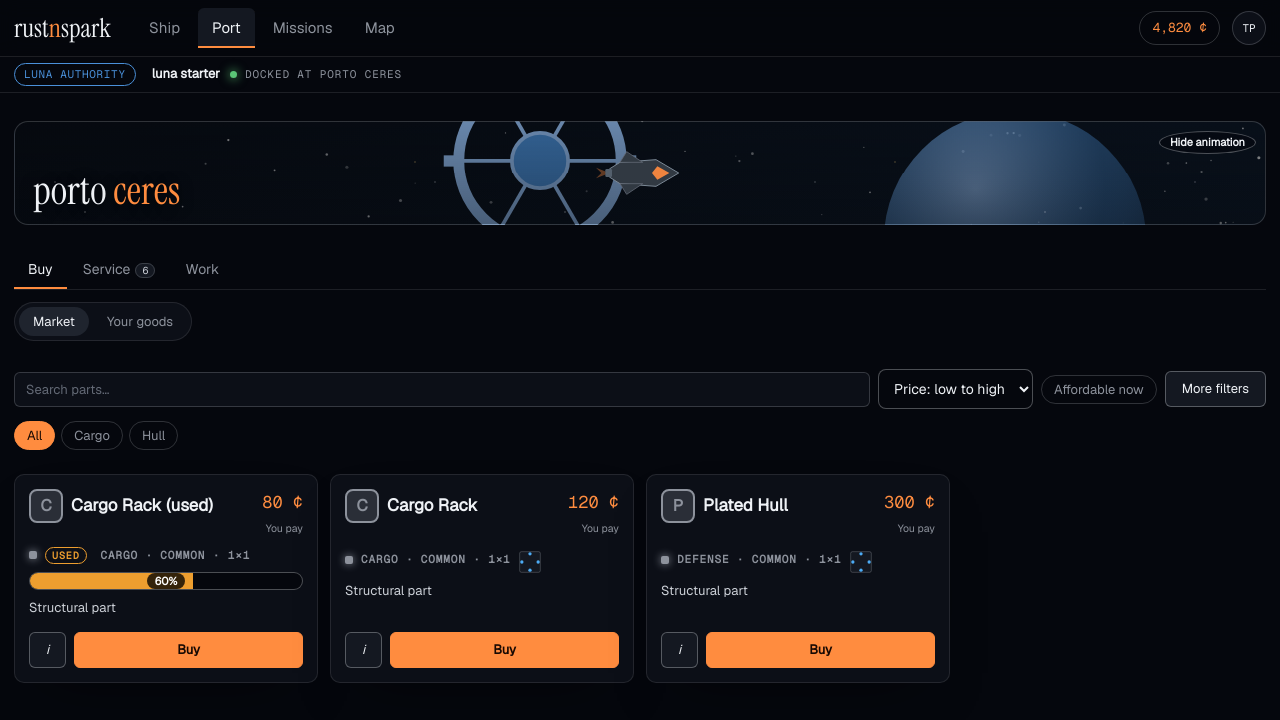
Test: port (S10.9) › sells all mined materials after the quote popup
The width and height of the screenshot is (1280, 720).
expect the tab "Market" is shown: met, box x1=19 y1=307 x2=89 y2=336
Click the tab "Your goods": (140, 322) x1=93 y1=307 x2=187 y2=336
(page scrolled)
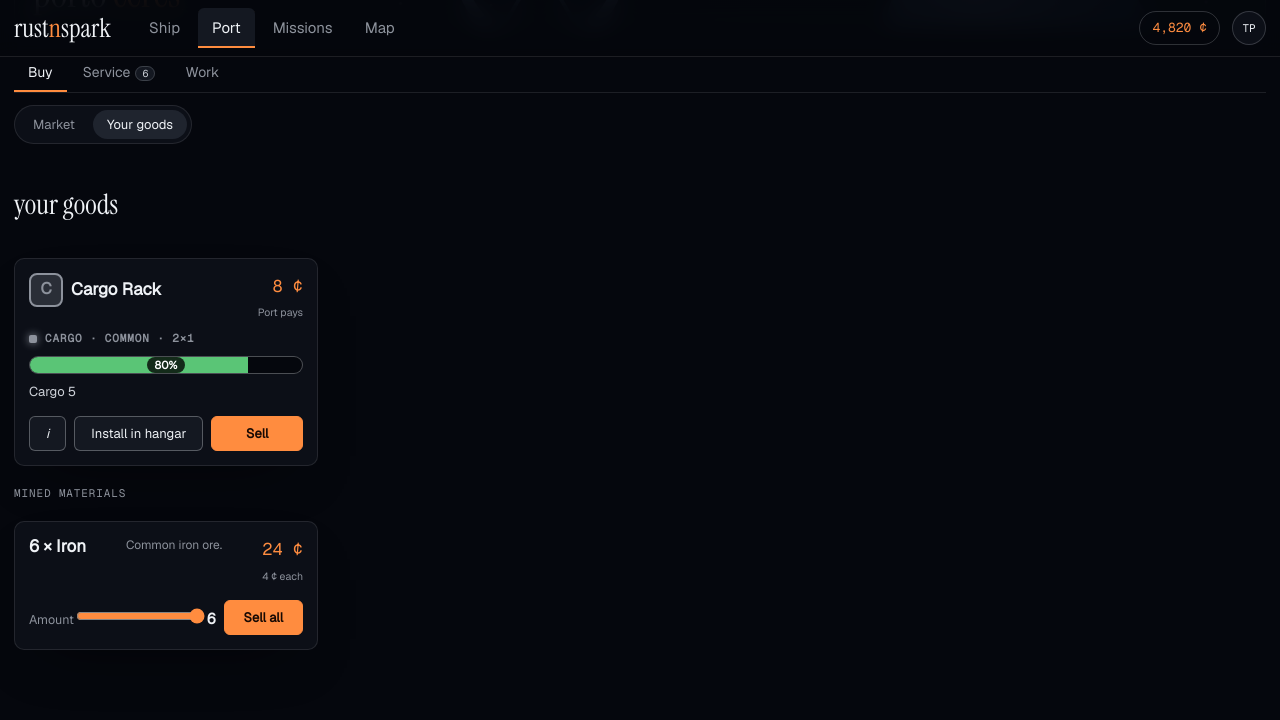
Click the button "Sell all": (263, 618) x1=224 y1=600 x2=303 y2=636
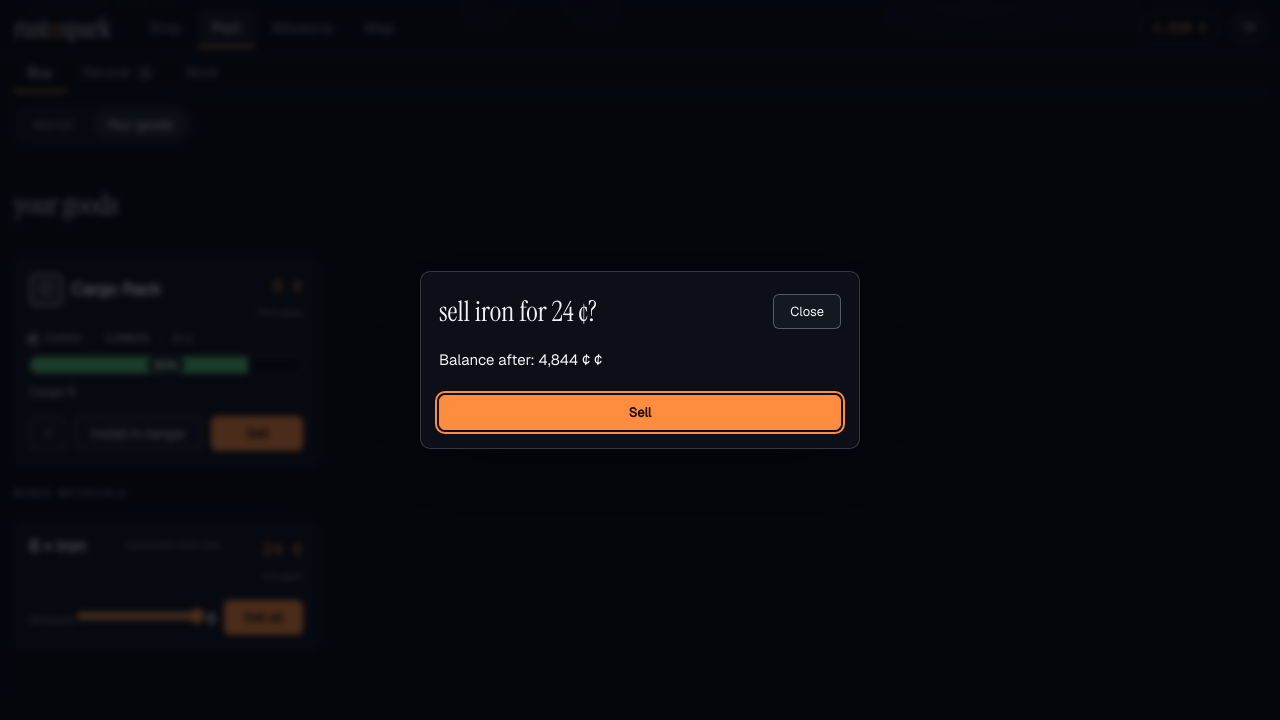
expect the dialog "Sell Iron for 24 ¢?" shows "Balance after: 4,844 ¢": met, box x1=439 y1=350 x2=602 y2=369
Click the button "Sell": (640, 412) x1=439 y1=394 x2=841 y2=430
(page scrolled)
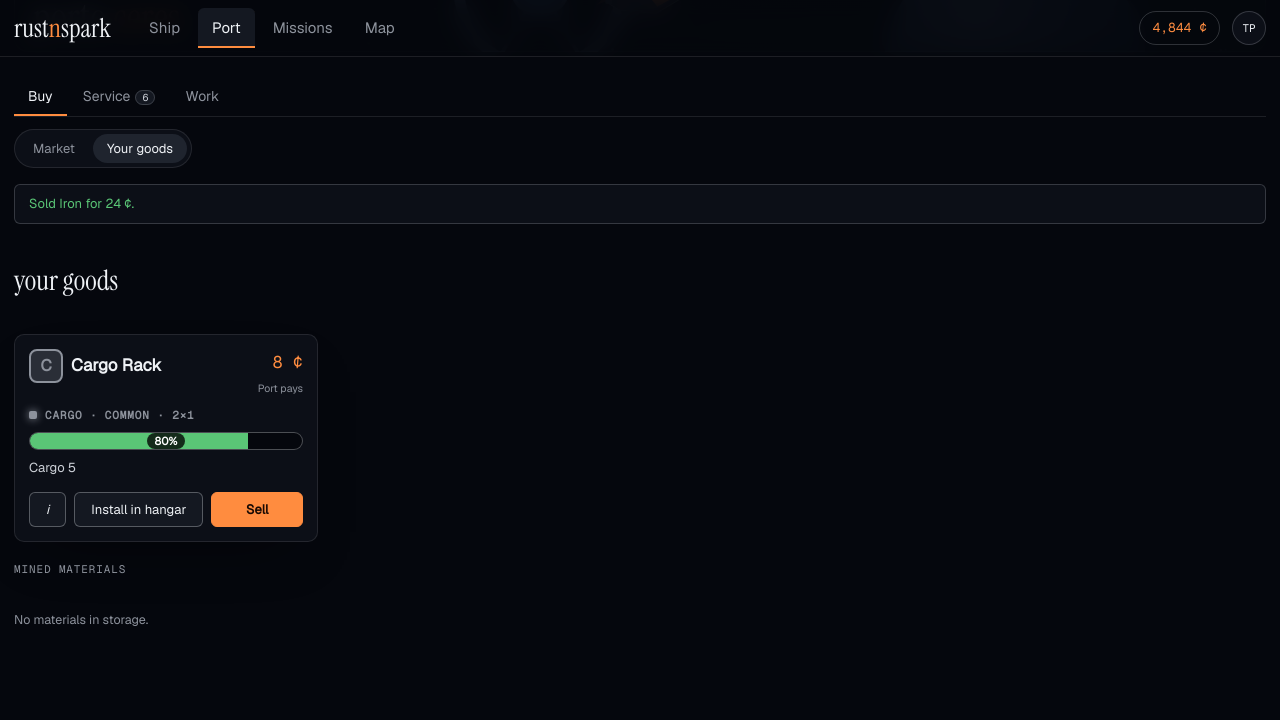
expect the message reads "Sold Iron for 24 ¢.": met, box x1=29 y1=195 x2=134 y2=212
expect the text with test id "topbar-wallet" reads "4,844 ¢": met, box x1=1152 y1=19 x2=1207 y2=36
